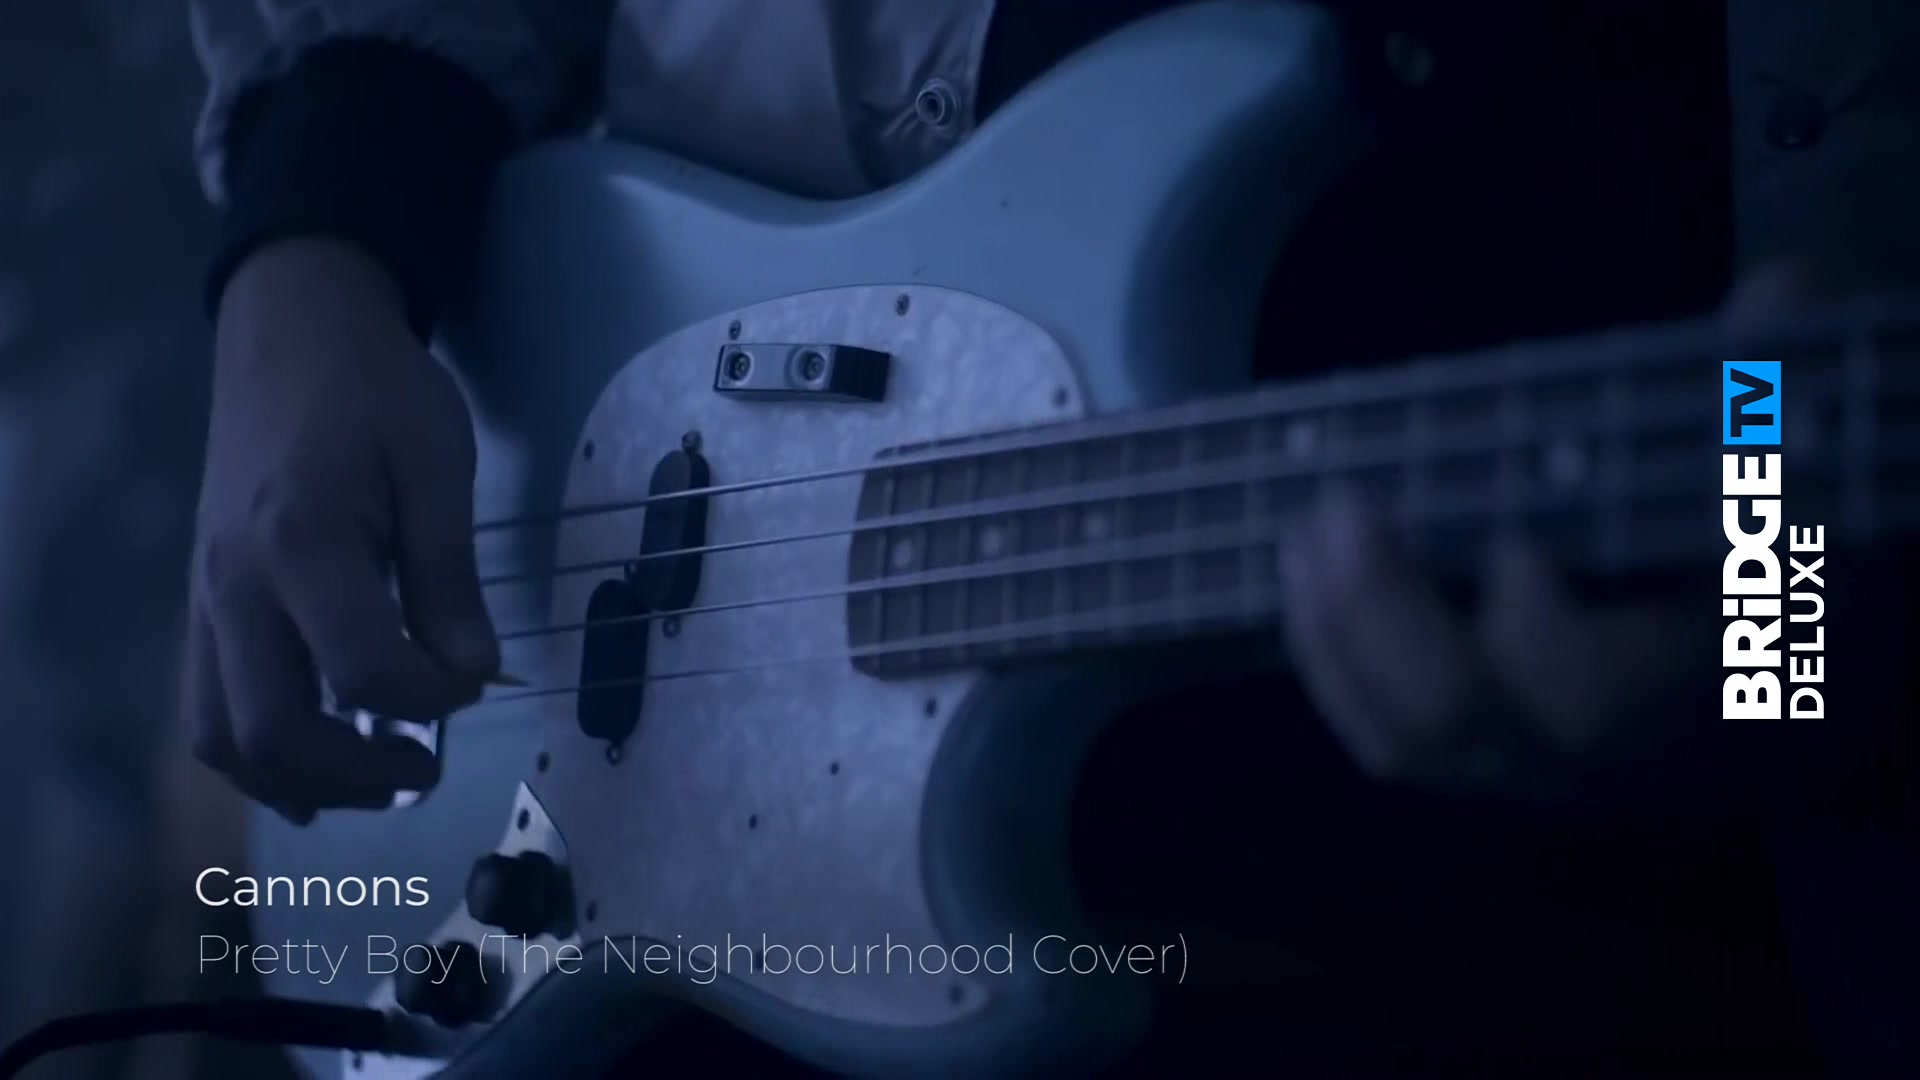Bridge_TV_Deluxe: (1712, 351, 1833, 728)
